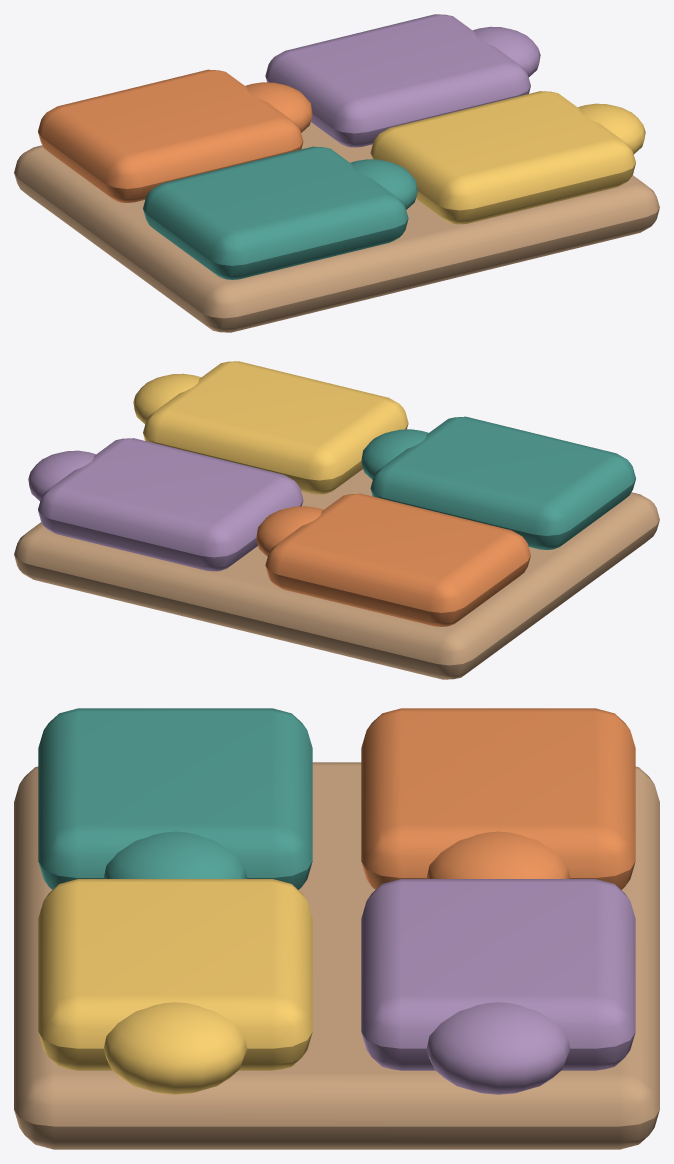
The model's file is word-puzzle.glb.
The picture shows the model from 3 angles, top to bottom: view 1: azimuth 30°, elevation 25°; view 2: azimuth 150°, elevation 25°; view 3: azimuth 270°, elevation 25°; orthographic projection. The views are drawn at different scales.
Parts seen in each view (by area): view 1: puzzle board, puzzle piece, puzzle piece.001, puzzle piece.002, puzzle piece.003, puzzle tab.001, puzzle tab.002, puzzle tab, puzzle tab.003; view 2: puzzle board, puzzle piece.002, puzzle piece.003, puzzle piece, puzzle piece.001, puzzle tab.003, puzzle tab, puzzle tab.002, puzzle tab.001; view 3: puzzle board, puzzle piece.001, puzzle piece.003, puzzle piece, puzzle piece.002, puzzle tab.001, puzzle tab.003, puzzle tab, puzzle tab.002.
Boxes of the visible parts, x1,y1,x2,y2 form: puzzle board: [14, 122, 659, 332]; puzzle piece: [143, 146, 408, 279]; puzzle piece.001: [370, 91, 635, 224]; puzzle piece.002: [38, 69, 303, 202]; puzzle piece.003: [265, 14, 530, 147]; puzzle tab.001: [578, 103, 645, 154]; puzzle tab.002: [245, 82, 312, 132]; puzzle tab: [350, 159, 417, 209]; puzzle tab.003: [473, 26, 540, 77]; puzzle board: [14, 469, 659, 679]; puzzle piece.002: [265, 493, 530, 626]; puzzle piece.003: [38, 438, 303, 571]; puzzle piece: [370, 416, 635, 549]; puzzle piece.001: [143, 361, 408, 494]; puzzle tab.003: [28, 450, 95, 501]; puzzle tab: [361, 429, 428, 479]; puzzle tab.002: [256, 506, 323, 556]; puzzle tab.001: [133, 373, 200, 424]; puzzle board: [14, 762, 659, 1149]; puzzle piece.001: [38, 879, 312, 1070]; puzzle piece.003: [361, 879, 635, 1070]; puzzle piece: [38, 708, 312, 889]; puzzle piece.002: [361, 708, 635, 889]; puzzle tab.001: [103, 1002, 247, 1094]; puzzle tab.003: [426, 1002, 570, 1094]; puzzle tab: [103, 831, 247, 878]; puzzle tab.002: [426, 831, 570, 878].
Bounding box in the file's own units: 1.05 × 0.19 × 0.8.
